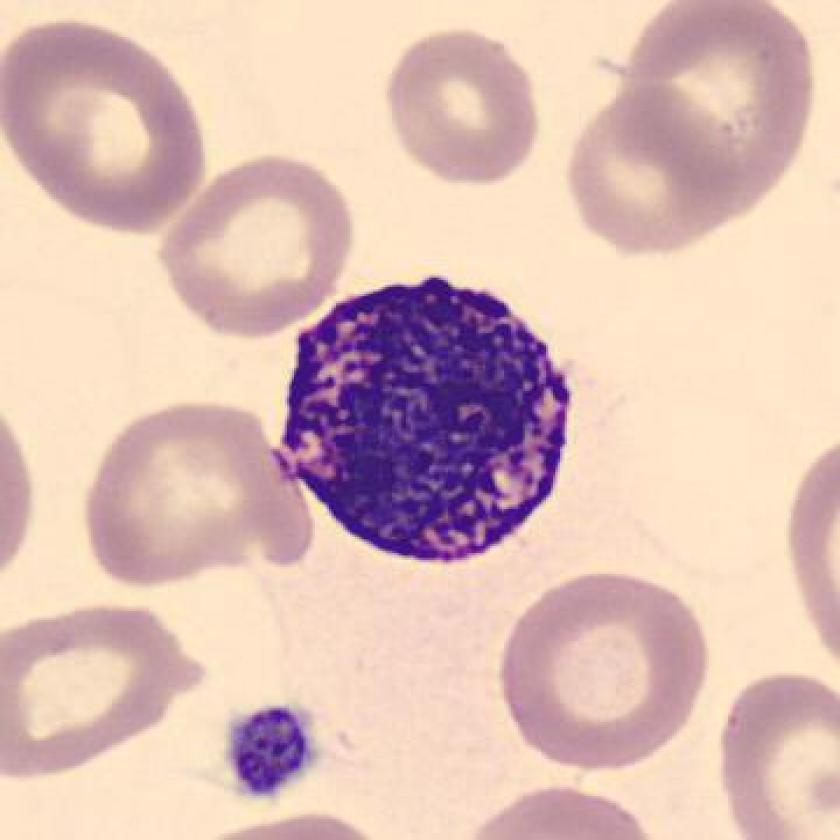basophil: (276, 274, 589, 577)
